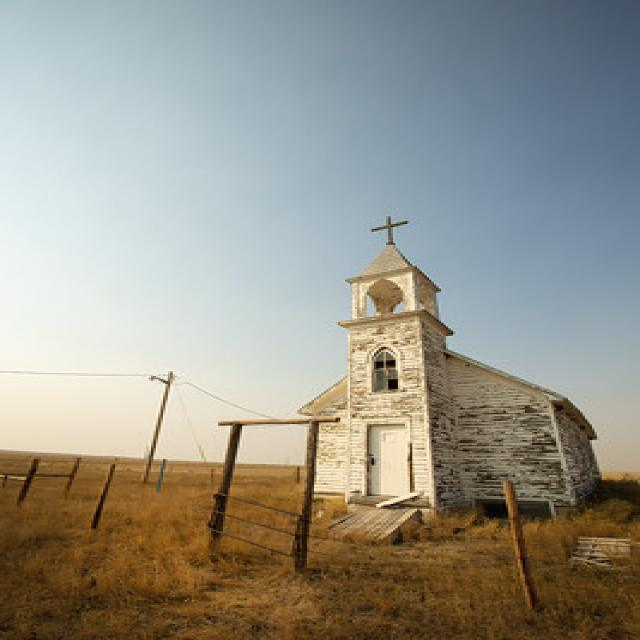building: (301, 234, 610, 518)
